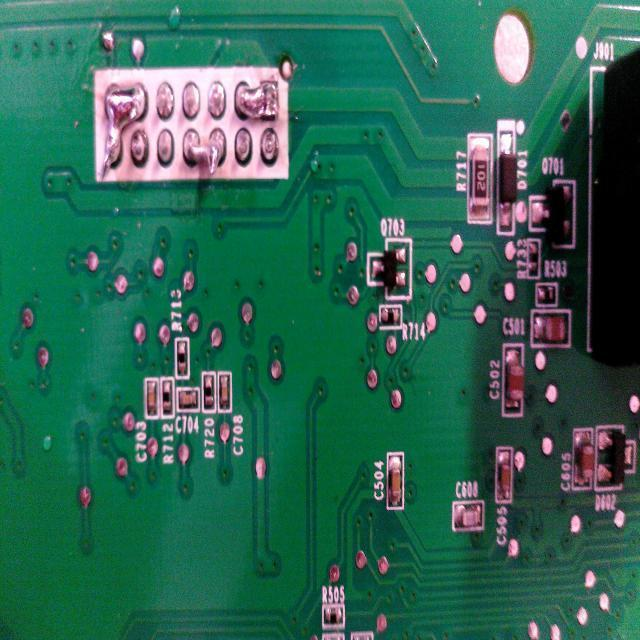Soldering shorted: (96, 83, 148, 182), (180, 123, 230, 182), (233, 74, 281, 128)
